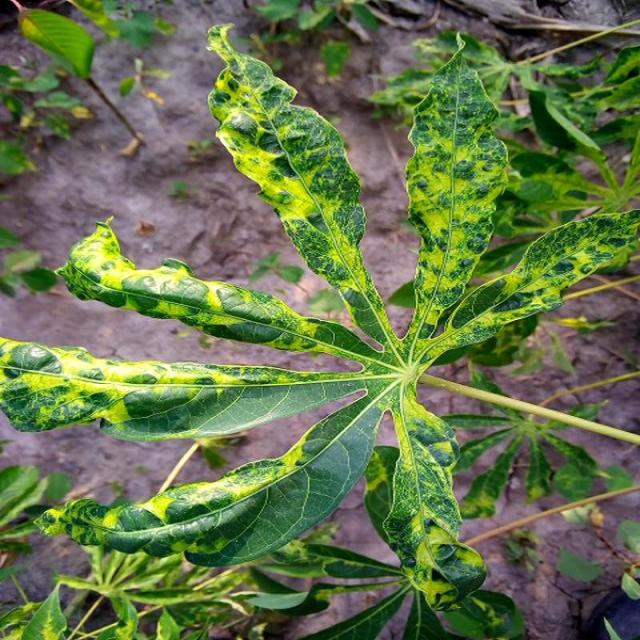cassava leaf: (1, 21, 638, 619), (402, 31, 510, 333)
